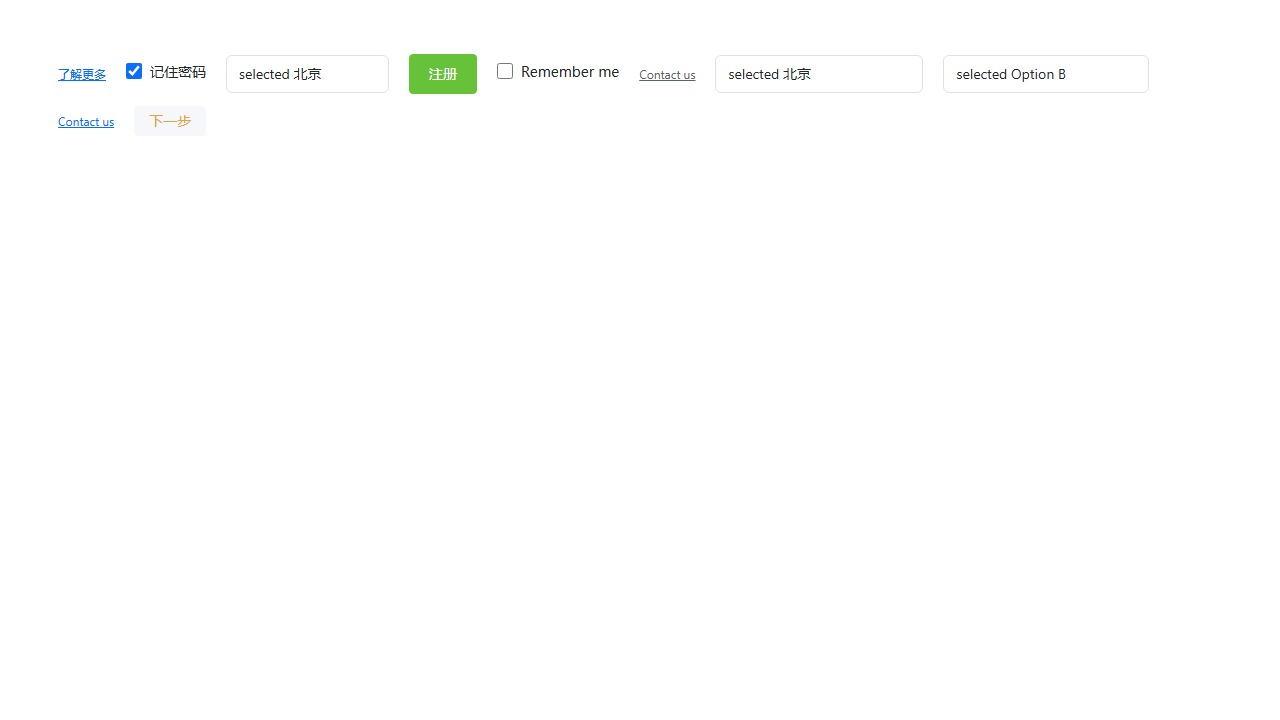button: (409, 54, 477, 94), (134, 106, 206, 136)
checkbox: (126, 63, 142, 79), (497, 63, 513, 79)
icon: (521, 61, 619, 80), (150, 61, 206, 80)
link: (639, 66, 695, 82), (58, 113, 114, 129), (58, 66, 106, 82)
radio: (497, 61, 619, 80), (126, 61, 206, 80)
select: (715, 54, 923, 92), (943, 54, 1149, 92), (226, 54, 389, 92)
